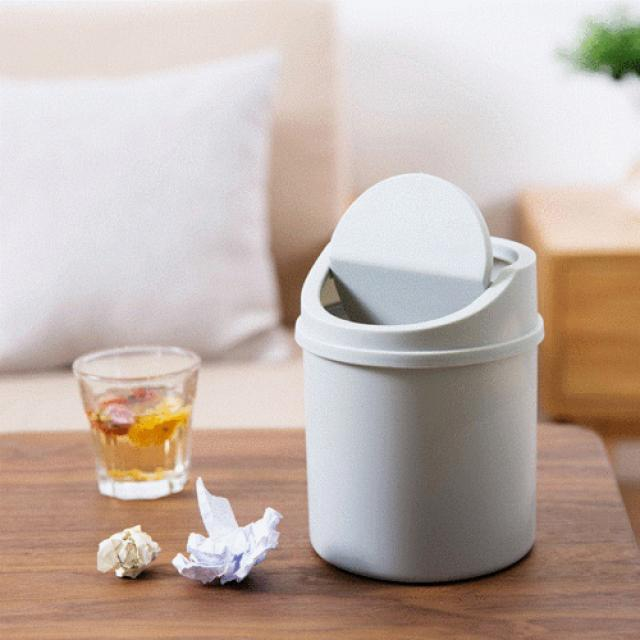Dustbin: (290, 166, 550, 586)
